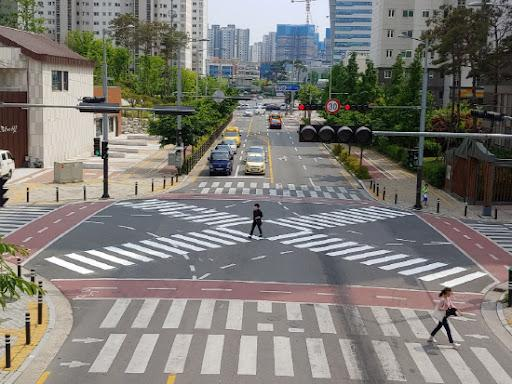crosswalk: (93, 289, 512, 384), (39, 207, 489, 290), (179, 176, 393, 205), (459, 209, 512, 270), (0, 199, 58, 244)
